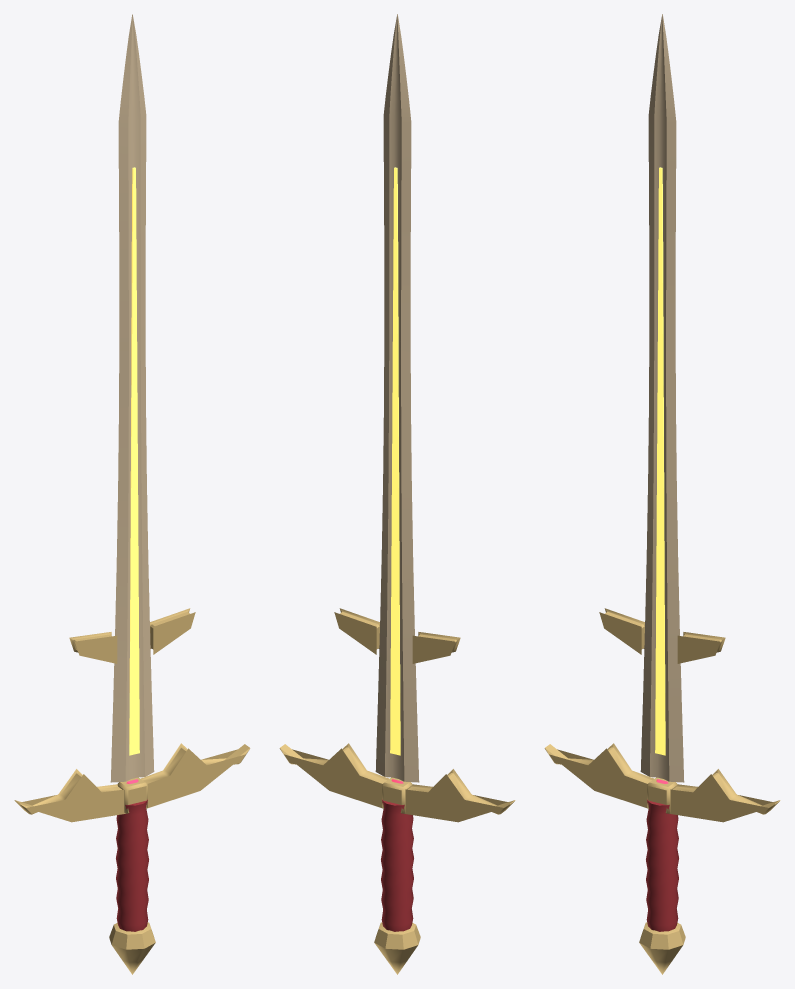
File: kingsbane.glb
3 views of the same model, side by side, from view 1: azimuth 30°, elevation 25°; view 2: azimuth 150°, elevation 25°; view 3: azimuth 330°, elevation 25° (orthographic).
Parts seen in each view (by area): view 1: kingsbane; view 2: kingsbane; view 3: kingsbane.
Boxes of the visible parts, x1,y1,x2,y2 form: kingsbane: [14, 14, 250, 974]; kingsbane: [279, 14, 515, 974]; kingsbane: [544, 14, 780, 974].
Bounding box in the file's own units: 0.2974 × 1.18 × 0.054.
